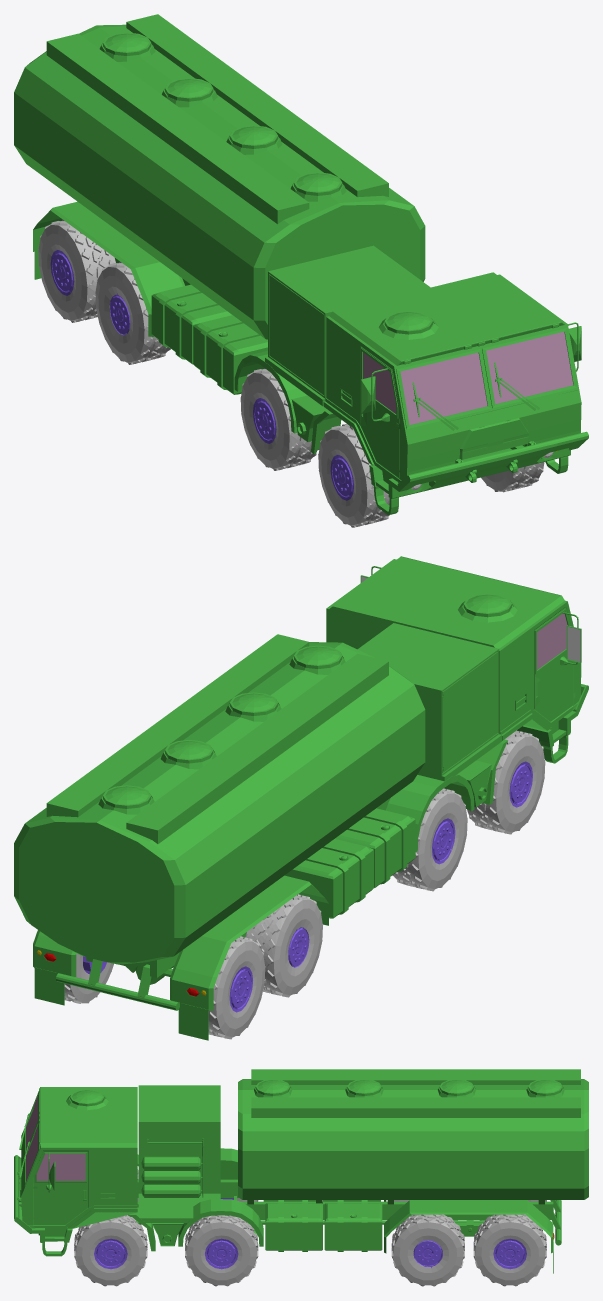
The model's file is Military Truck 815-7.fbx.
The picture shows the model from 3 angles, top to bottom: view 1: azimuth 30°, elevation 25°; view 2: azimuth 150°, elevation 25°; view 3: azimuth 270°, elevation 25°; orthographic projection. The views are drawn at different scales.
Visible parts, largest first — view 1: Tank, Body, Windows, WheelR4, WheelR3, WheelR1, WheelR2, WheelL1, RimR2, RimR1, RimR4; view 2: Tank, Body, WheelR3, WheelR1, WheelR2, WheelR4, Windows, WheelL4, RimR2, RimR1, RimR4, RimR3; view 3: Tank, Body, WheelL3, WheelL4, WheelL2, WheelL1, Windows, RimR1.001, RimR2.001, RimR4.001, RimR3.001.
Boxes of the visible parts, <box> form: Tank: <box>14,14,425,339</box>; Body: <box>33,201,588,515</box>; Windows: <box>363,331,573,425</box>; WheelR4: <box>38,219,115,322</box>; WheelR3: <box>95,261,170,364</box>; WheelR1: <box>318,423,389,527</box>; WheelR2: <box>240,368,317,470</box>; WheelL1: <box>481,462,544,492</box>; RimR2: <box>253,398,276,443</box>; RimR1: <box>330,454,353,500</box>; RimR4: <box>50,250,74,295</box>; Tank: <box>14,634,425,964</box>; Body: <box>33,556,588,1040</box>; WheelR3: <box>245,894,322,997</box>; WheelR1: <box>467,730,545,834</box>; WheelR2: <box>392,788,467,891</box>; WheelR4: <box>208,936,265,1039</box>; Windows: <box>537,613,567,669</box>; WheelL4: <box>64,953,113,1003</box>; RimR2: <box>432,818,455,864</box>; RimR1: <box>509,761,532,807</box>; RimR4: <box>229,966,252,1012</box>; RimR3: <box>288,927,309,967</box>; Tank: <box>238,1069,588,1199</box>; Body: <box>14,1085,561,1273</box>; WheelL3: <box>391,1214,464,1286</box>; WheelL4: <box>473,1214,546,1286</box>; WheelL2: <box>185,1215,258,1286</box>; WheelL1: <box>74,1215,147,1286</box>; Windows: <box>26,1095,85,1181</box>; RimR1.001: <box>94,1238,127,1269</box>; RimR2.001: <box>205,1238,238,1269</box>; RimR4.001: <box>493,1238,526,1269</box>; RimR3.001: <box>413,1240,442,1267</box>.
Size of what is drawn, in the model's own units: 328 by 344 by 1041.
